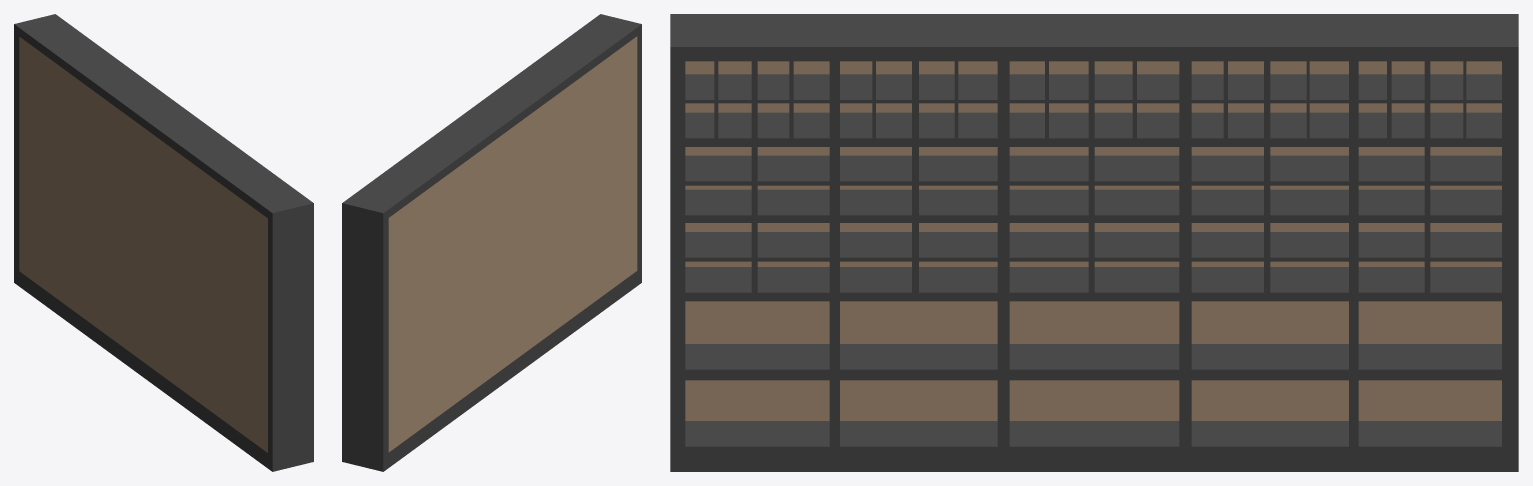
Rendered from F11_CubbyStorage.fbx.
The picture shows the model from 3 angles, left to right: view 1: azimuth 30°, elevation 25°; view 2: azimuth 150°, elevation 25°; view 3: azimuth 270°, elevation 25°; orthographic projection. The views are drawn at different scales.
Parts seen in each view (by area): view 1: CubbyShelves; view 2: CubbyShelves; view 3: CubbyShelves.
Part boxes in pixels (x1,y1,x2,y2): CubbyShelves: (14,14,313,471); CubbyShelves: (342,14,641,471); CubbyShelves: (670,14,1518,471).
Bounding box in the file's own units: 1 × 5.98 × 10.83.
